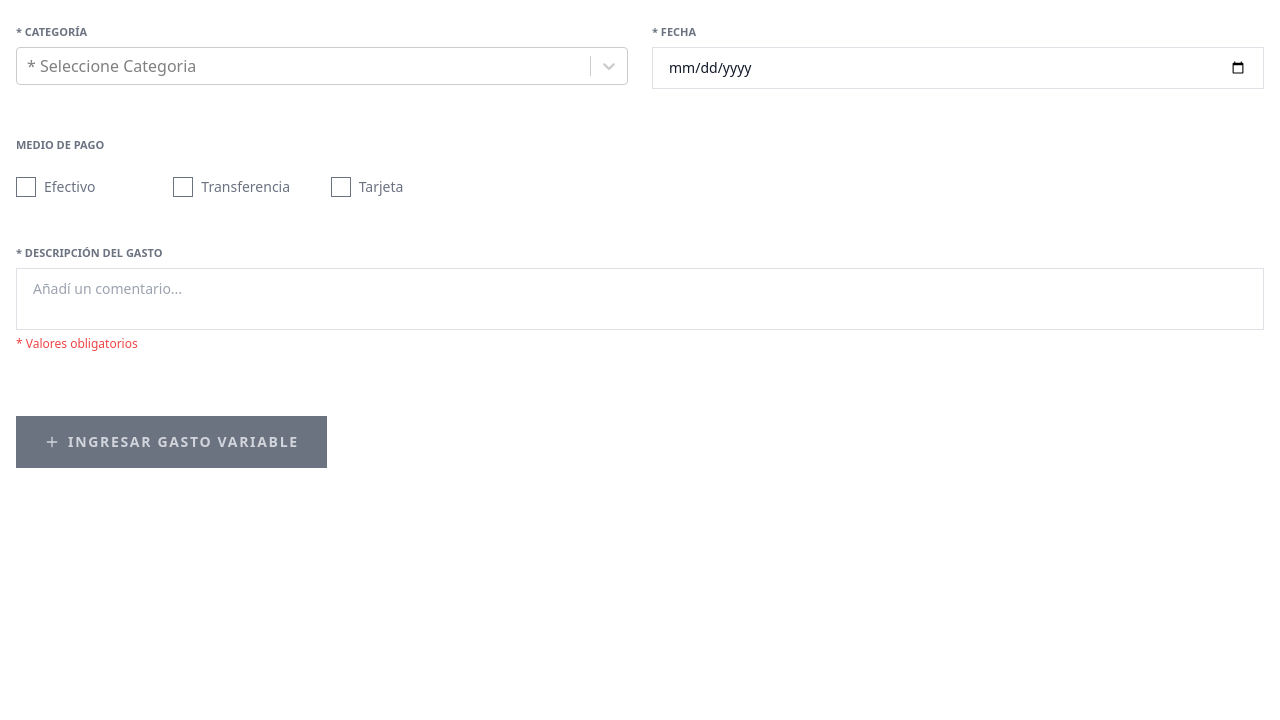
Test case: FormGatosVar › El campo Transferencia tiene un maximo de 10 caracteres y solo acepta numeros
# Activo el checkbox Transferencia
Click the checkbox labelled "Transferencia": coordinates (240, 187) [173,177,307,197]
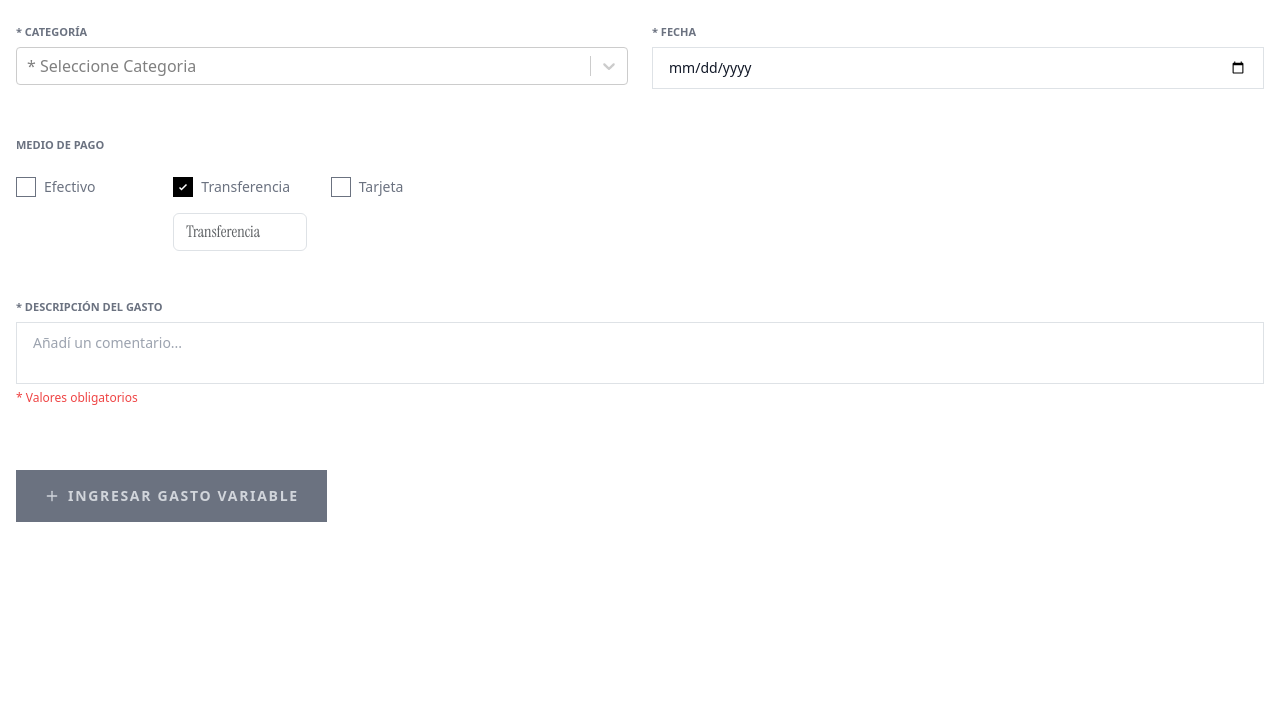
# Escribir más de 10 caracteres (20 dígitos)
In the field with placeholder "Transferencia": coordinates (240, 232) [173,213,307,251], type "12345678901234567890"
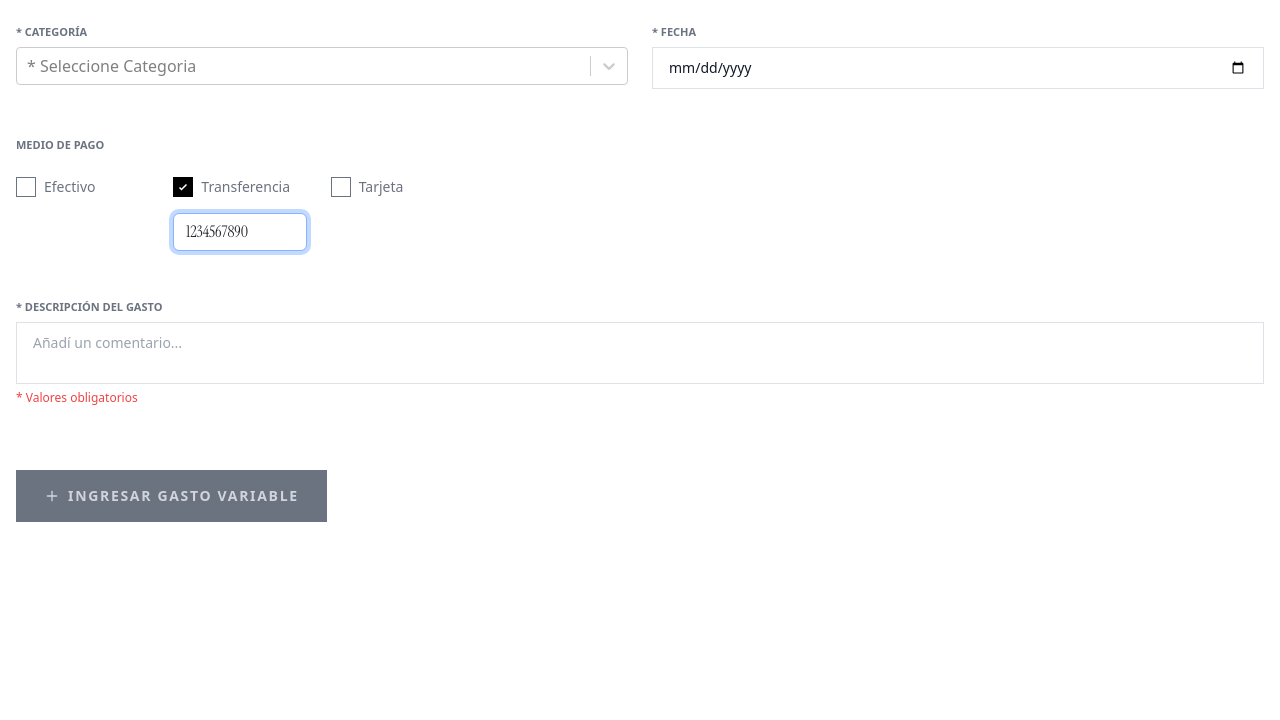
Check: the field with placeholder "Transferencia" holds "1234567890"
# Intentamos escribir letras
Replace the text in the field with placeholder "Transferencia" with "abc123": coordinates (240, 232) [173,213,307,251]
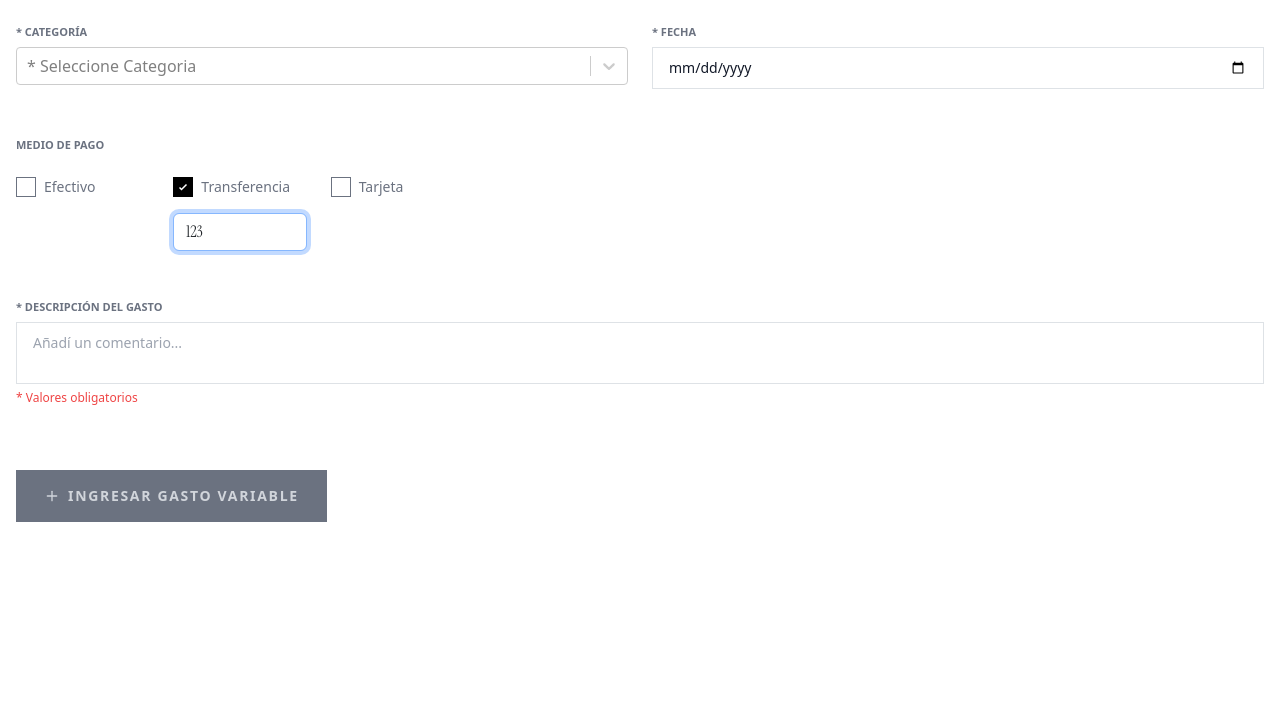
Check: the field with placeholder "Transferencia" holds "123", box [173,213,307,251]
